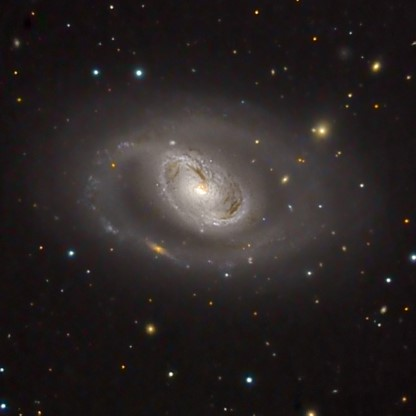Messier 96: (53, 84, 376, 294)
